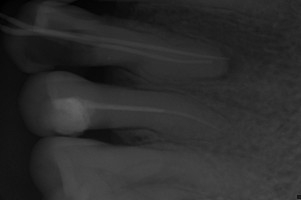Furcation Involvement: (213, 55, 239, 81)
